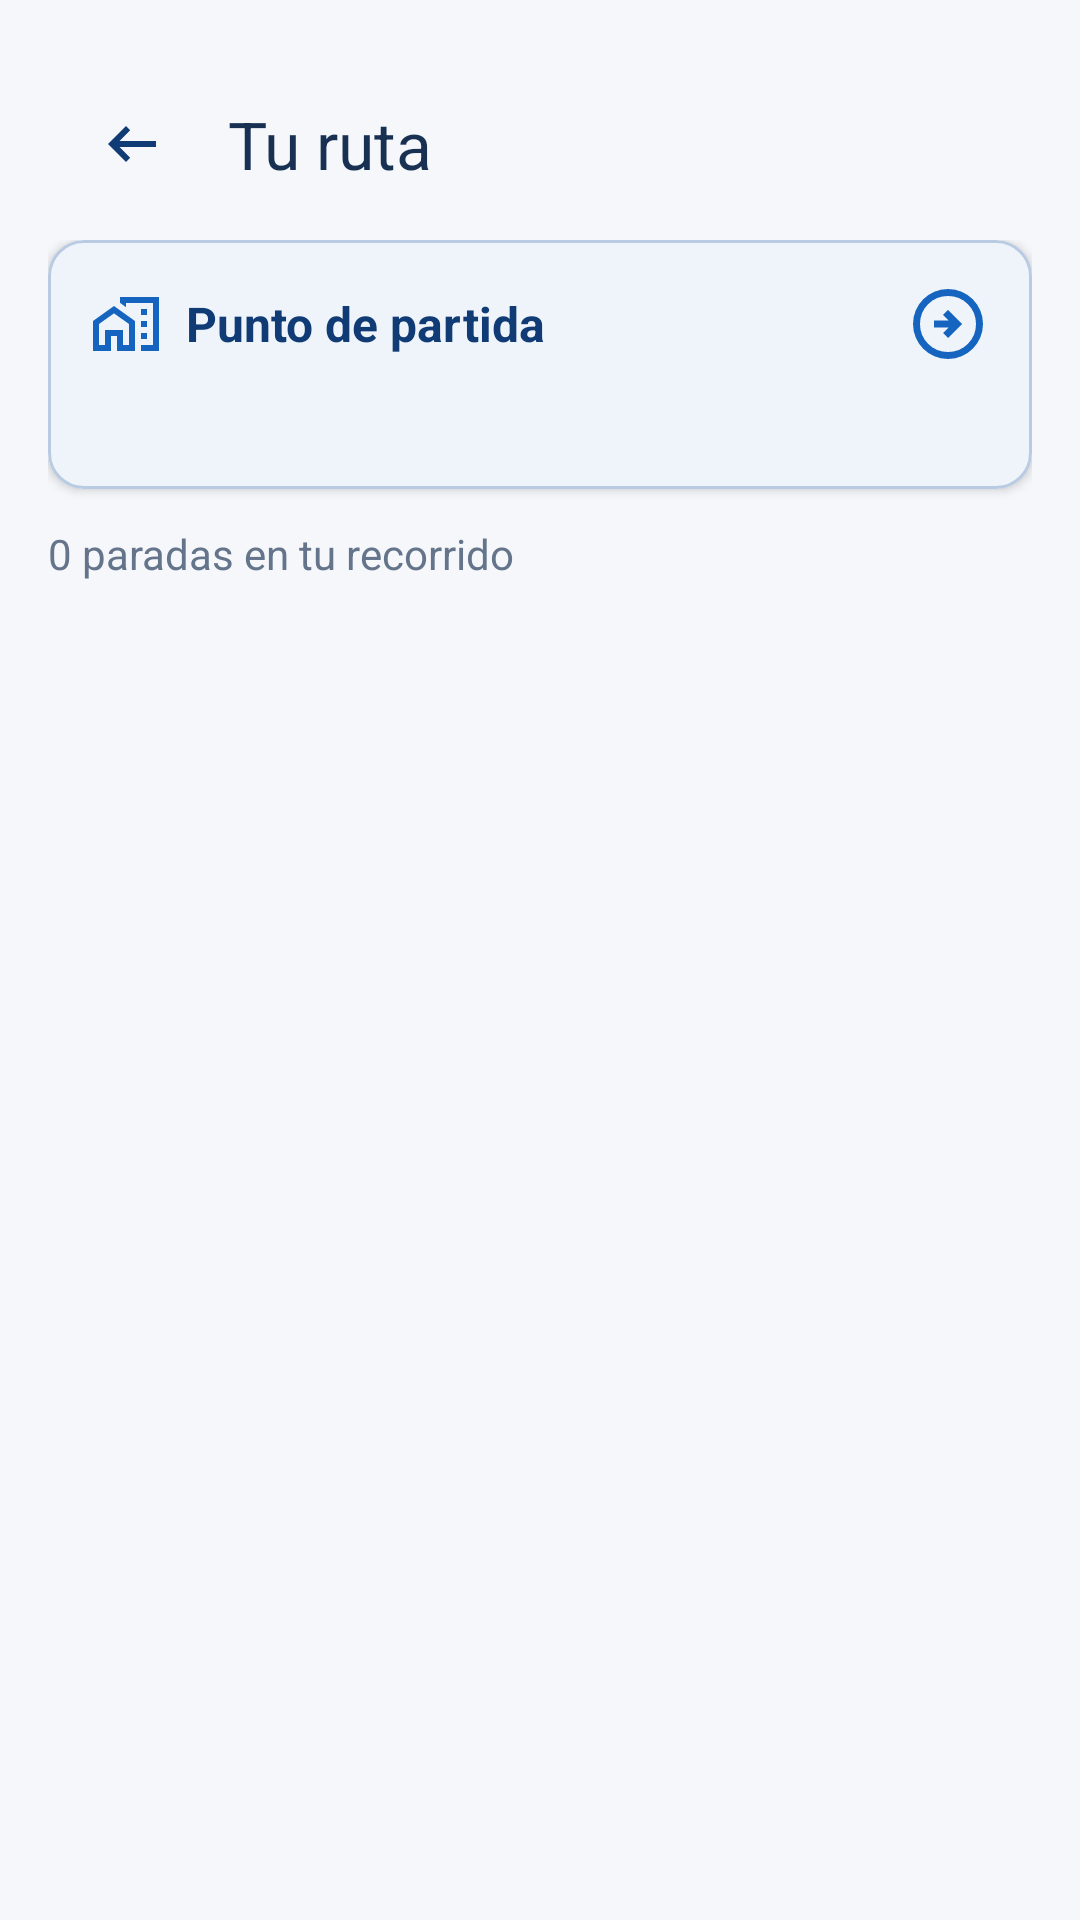

Named icons in this screenshot (1080 x 1920) and their centers, [x,y]:
home work: [126,324]
